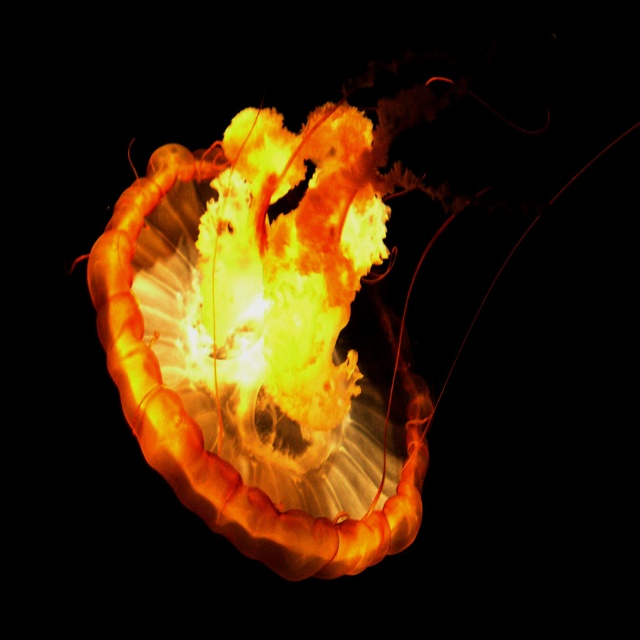Jellyfish: (69, 71, 600, 582)
